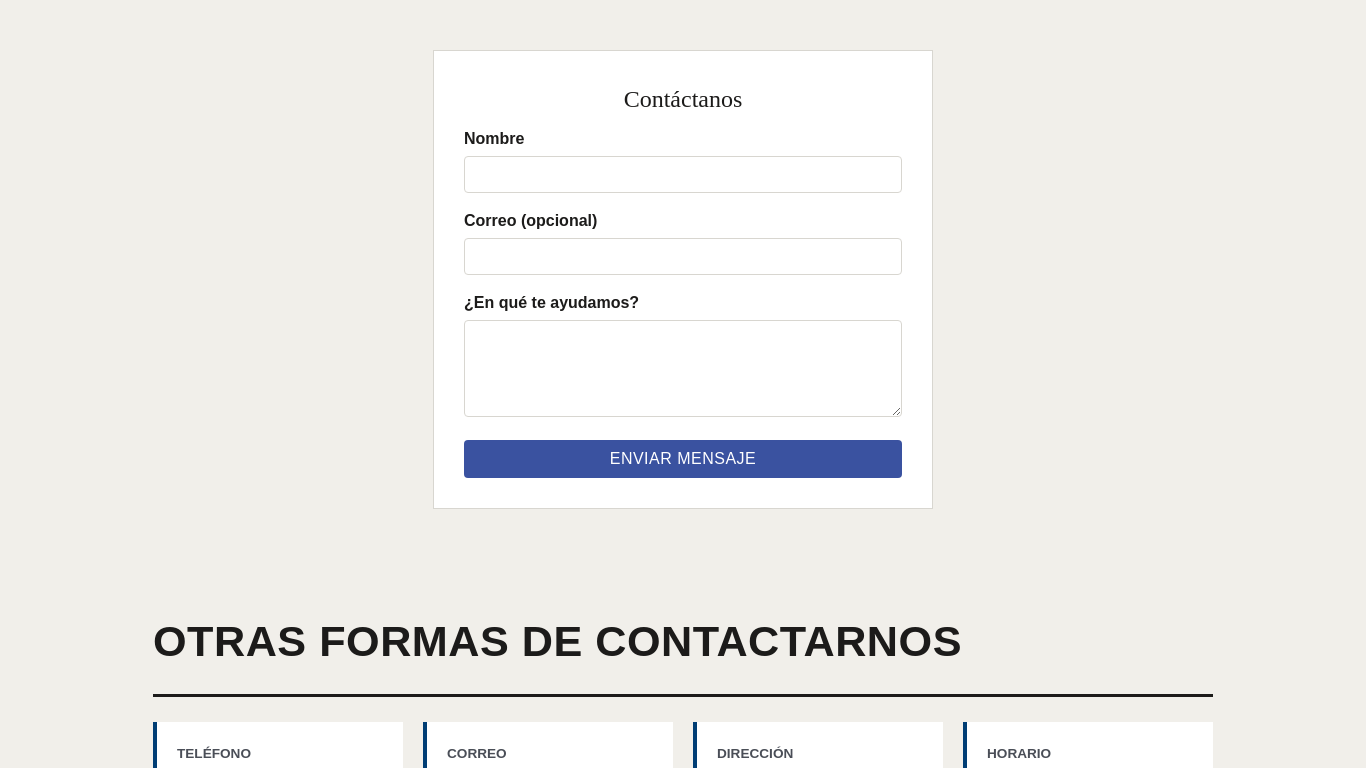
Test: Contacto › valida nombre y comentario obligatorios
What coordinates should you click on to do the following:
click the button "Enviar mensaje"
I would click on:
 (683, 459)
Its box is [464, 440, 902, 478].
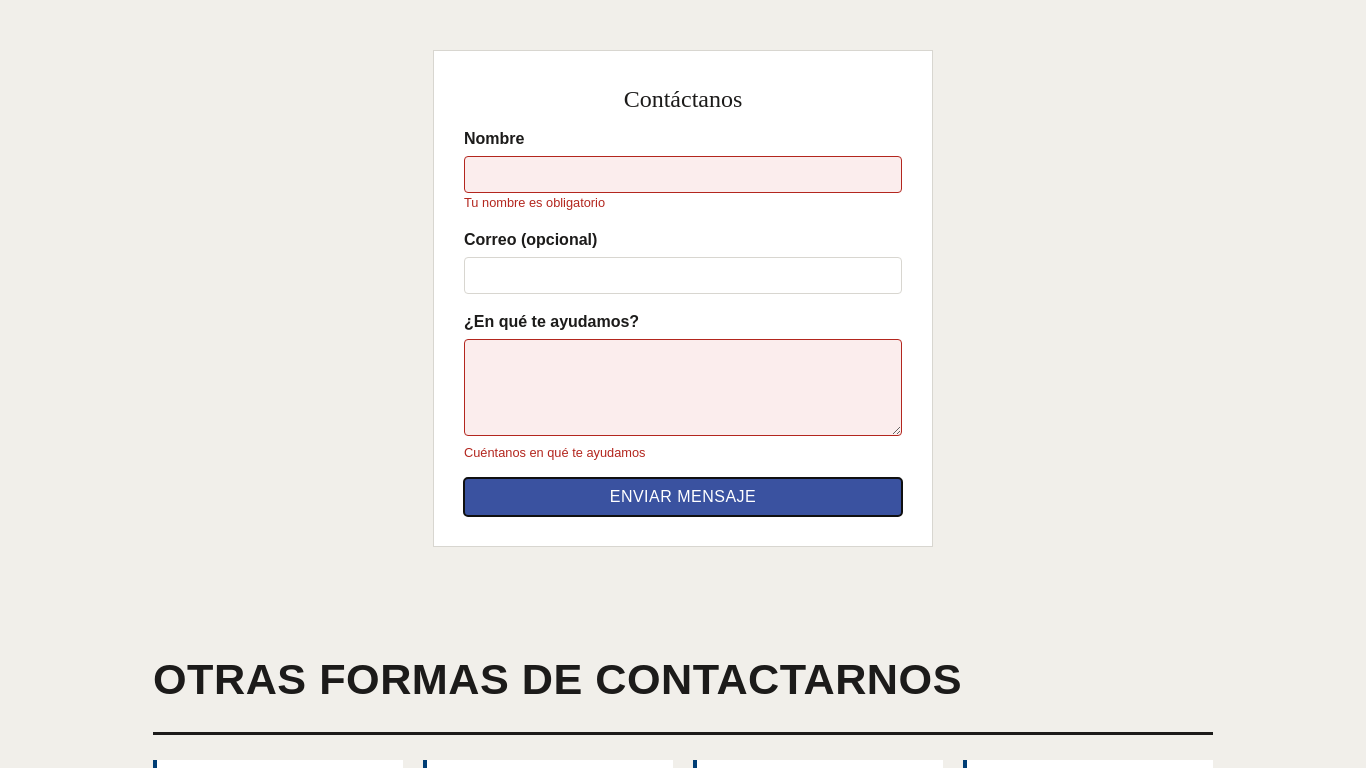
expect the text "Tu nombre es obligatorio" is shown: met, box [464, 195, 605, 210]
expect the text "Cuéntanos en qué te ayudamos" is shown: met, box [464, 445, 645, 460]
